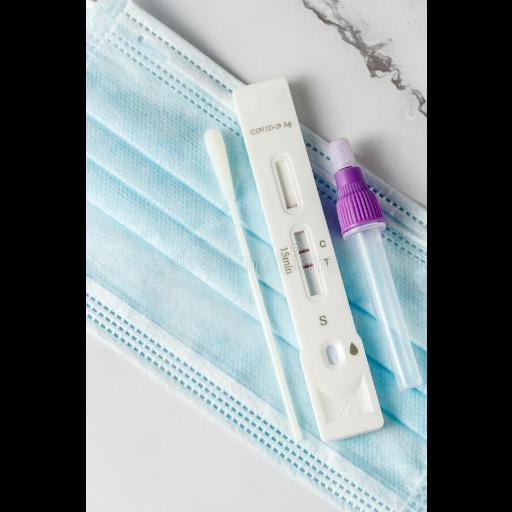Pos: (232, 78, 387, 440)
